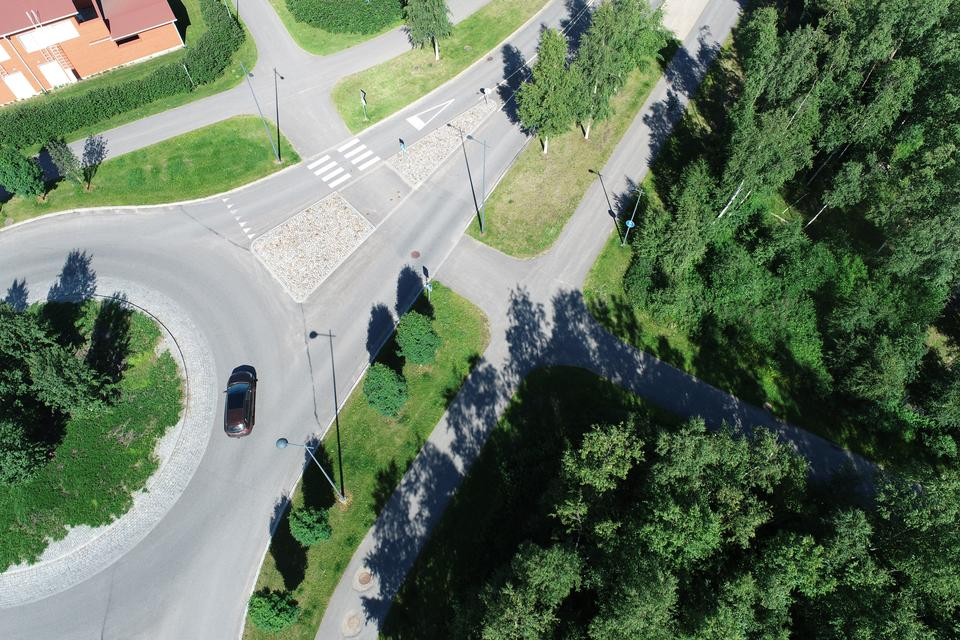intersection: (265, 111, 532, 326)
roundabout: (0, 185, 260, 640)
